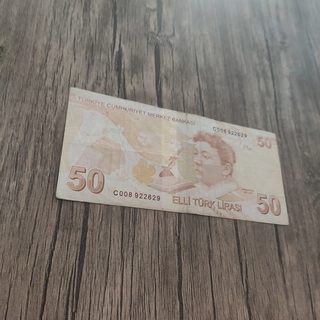50TLBack: (54, 86, 290, 226)
